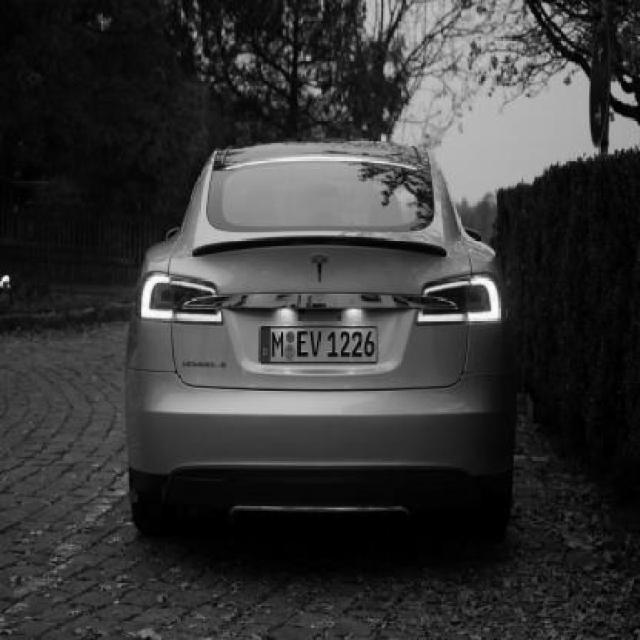car: (121, 134, 524, 563)
license-plate: (248, 318, 389, 364)
